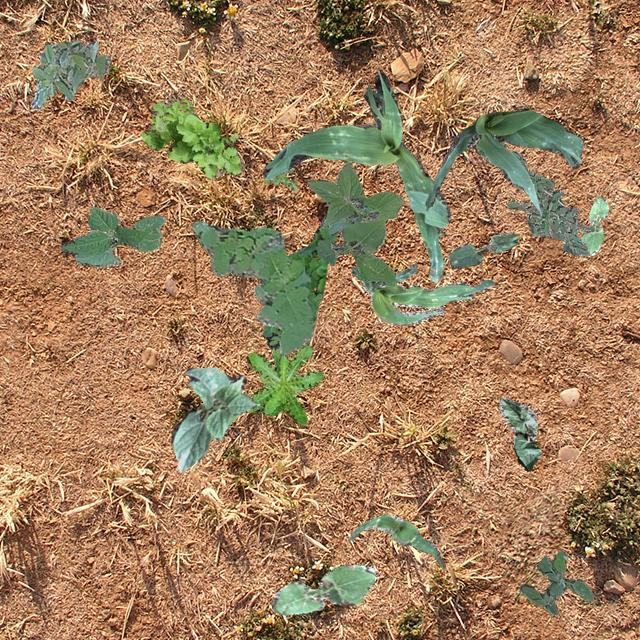crop: (262, 70, 448, 280), (424, 108, 582, 214), (170, 366, 258, 472), (349, 264, 494, 324), (59, 206, 164, 266), (270, 564, 374, 614), (348, 514, 444, 568), (498, 396, 540, 469), (448, 232, 518, 268), (580, 196, 608, 253)
weed: (190, 220, 314, 354), (306, 160, 402, 286), (262, 224, 336, 348), (506, 150, 590, 254), (140, 98, 244, 178), (245, 344, 322, 424), (30, 38, 110, 108), (518, 550, 592, 614), (262, 167, 296, 190)
